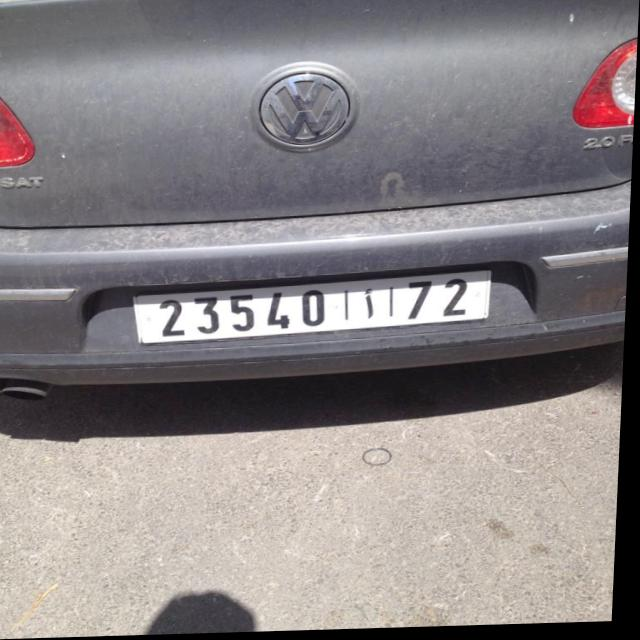License-Plate: (137, 275, 493, 345)
